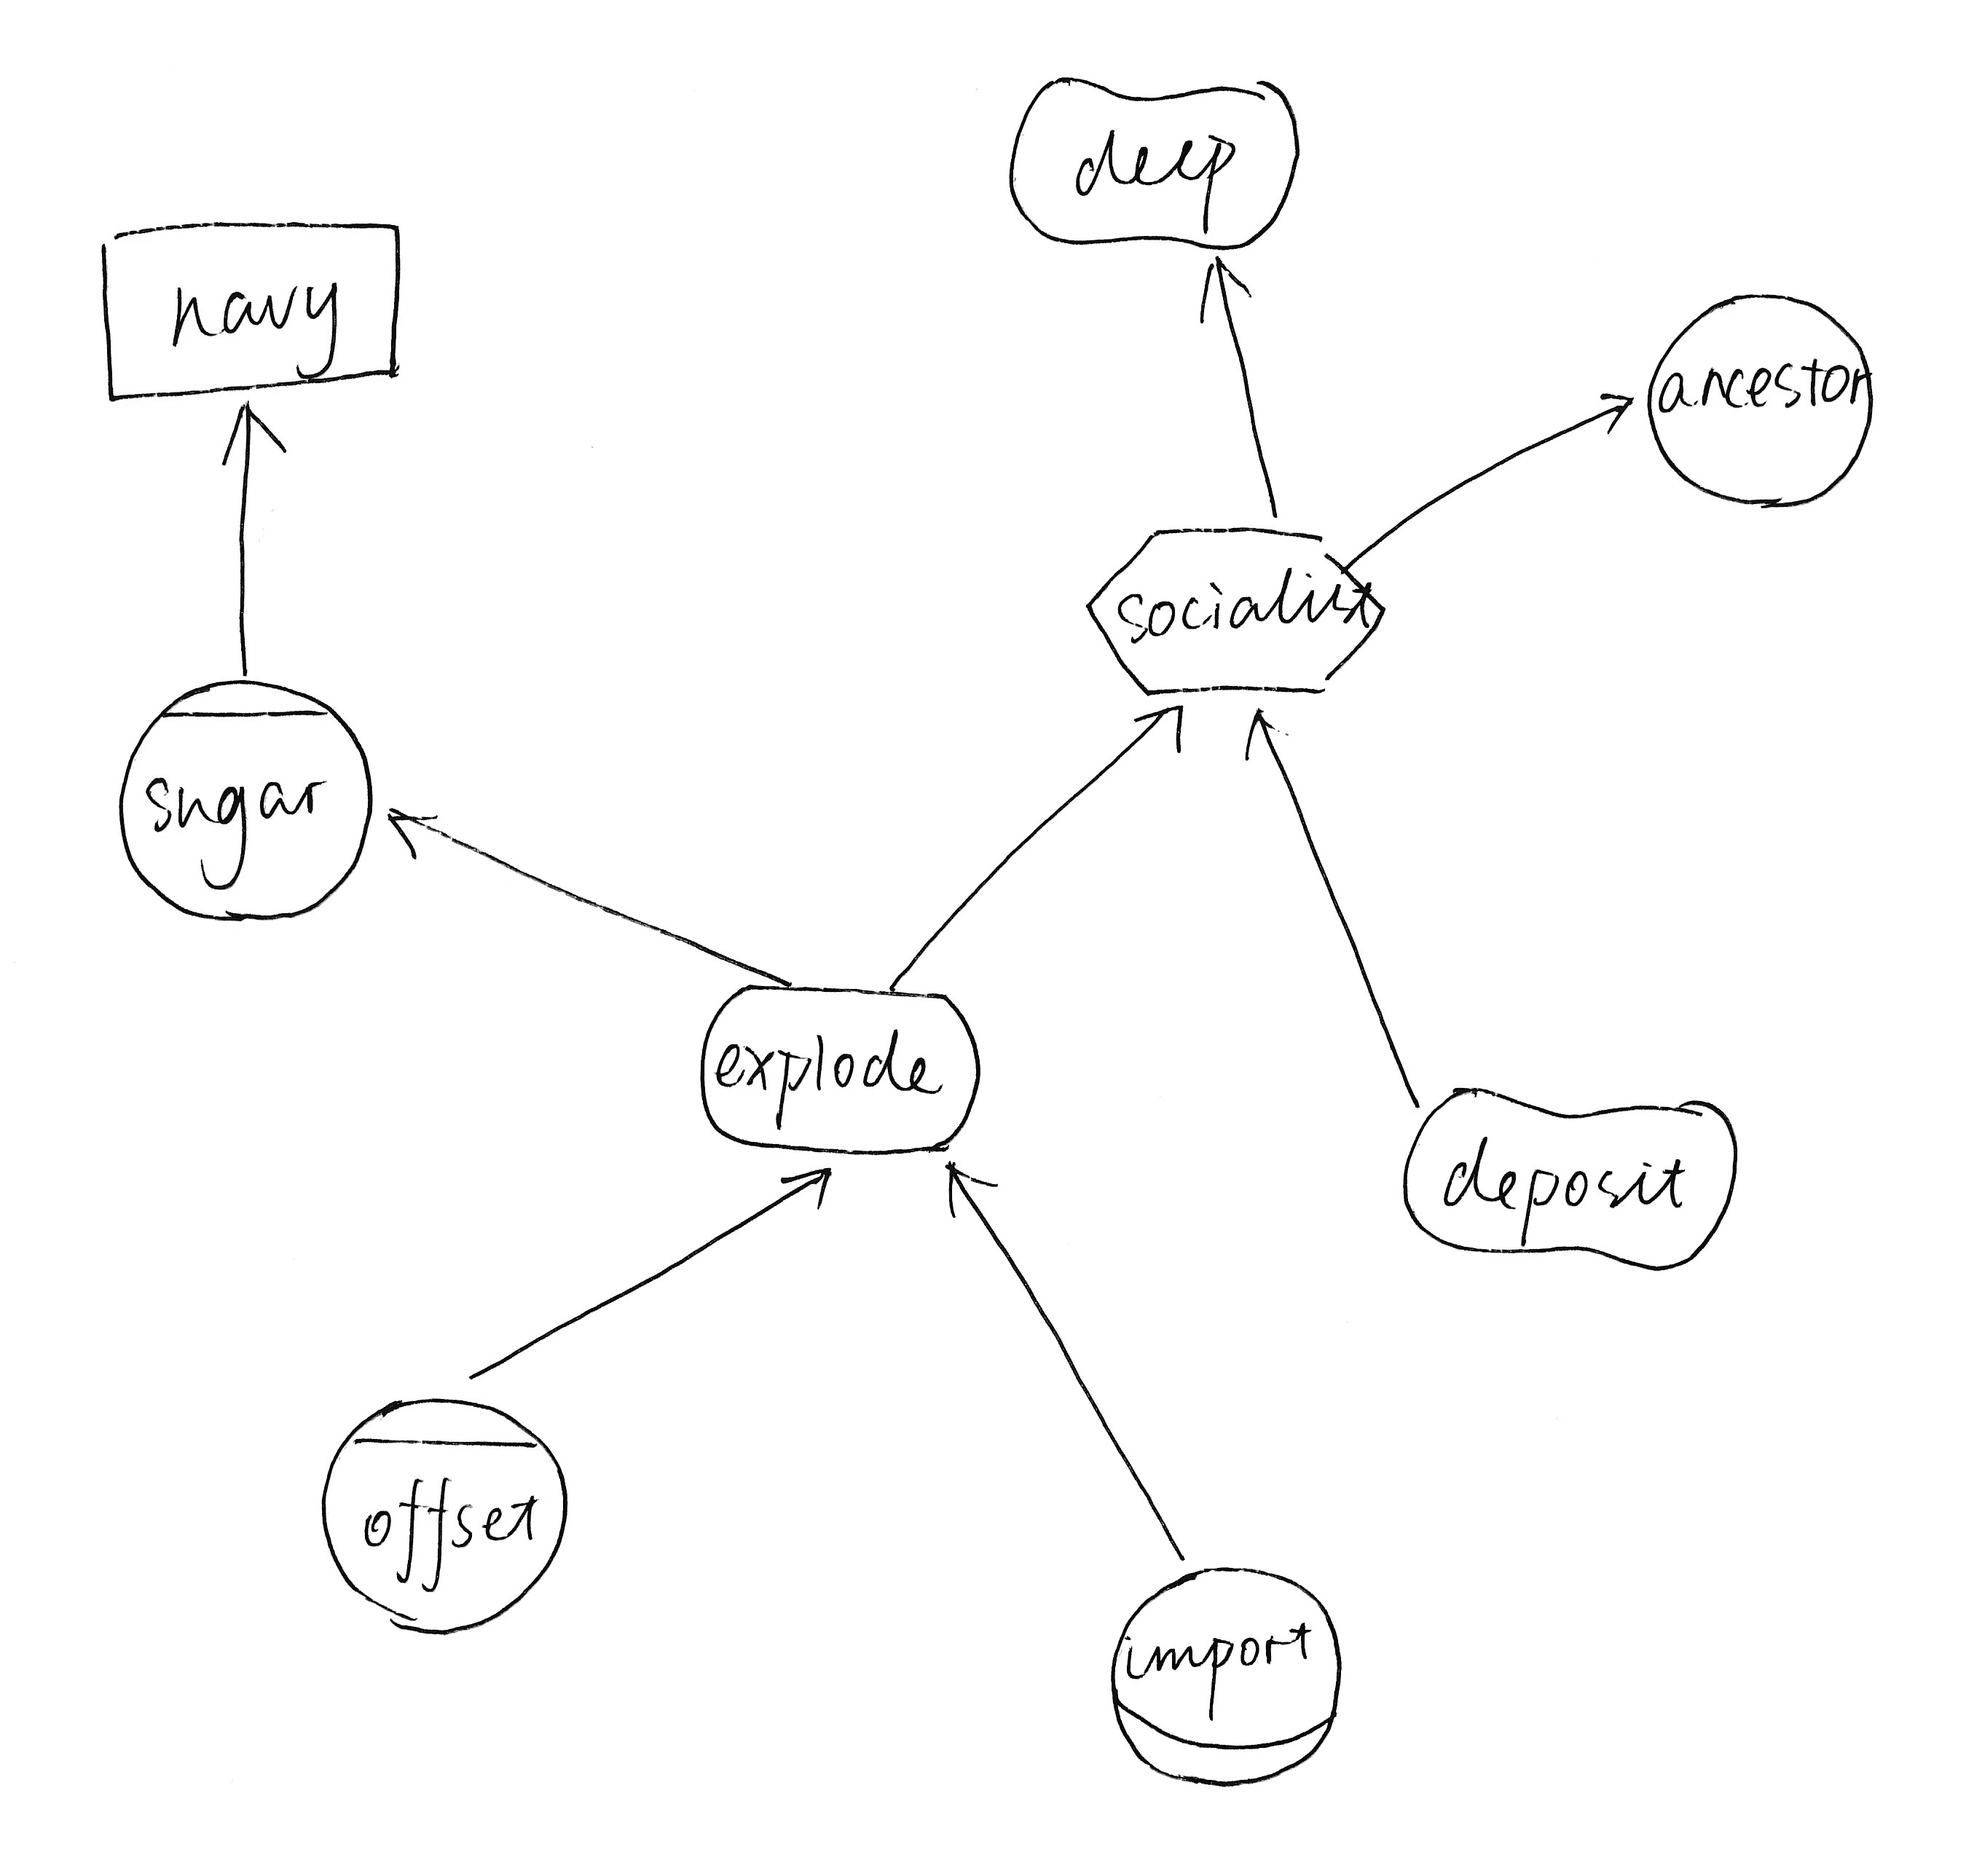actor: (1627, 276, 1887, 518)
agent: (91, 663, 395, 934), (302, 1369, 579, 1651)
arrow: (202, 395, 300, 476), (922, 1146, 1009, 1234), (1181, 246, 1266, 330), (372, 795, 453, 874), (760, 1149, 843, 1225), (1234, 691, 1306, 777), (1130, 697, 1202, 774), (1582, 376, 1645, 449)
goal: (686, 969, 999, 1169)
quality: (1385, 1065, 1759, 1295), (987, 56, 1322, 269)
resource: (75, 197, 411, 418)
role: (1090, 1551, 1360, 1809)
task: (1066, 504, 1399, 718)
